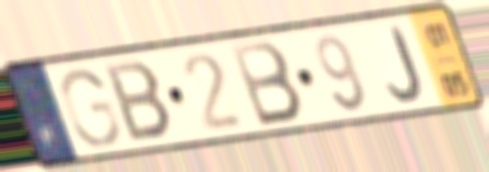2: (182, 50, 245, 133)
9: (312, 31, 367, 115)
B: (226, 37, 306, 130), (100, 58, 178, 145)
G: (57, 65, 122, 150)
J: (384, 22, 426, 105)
